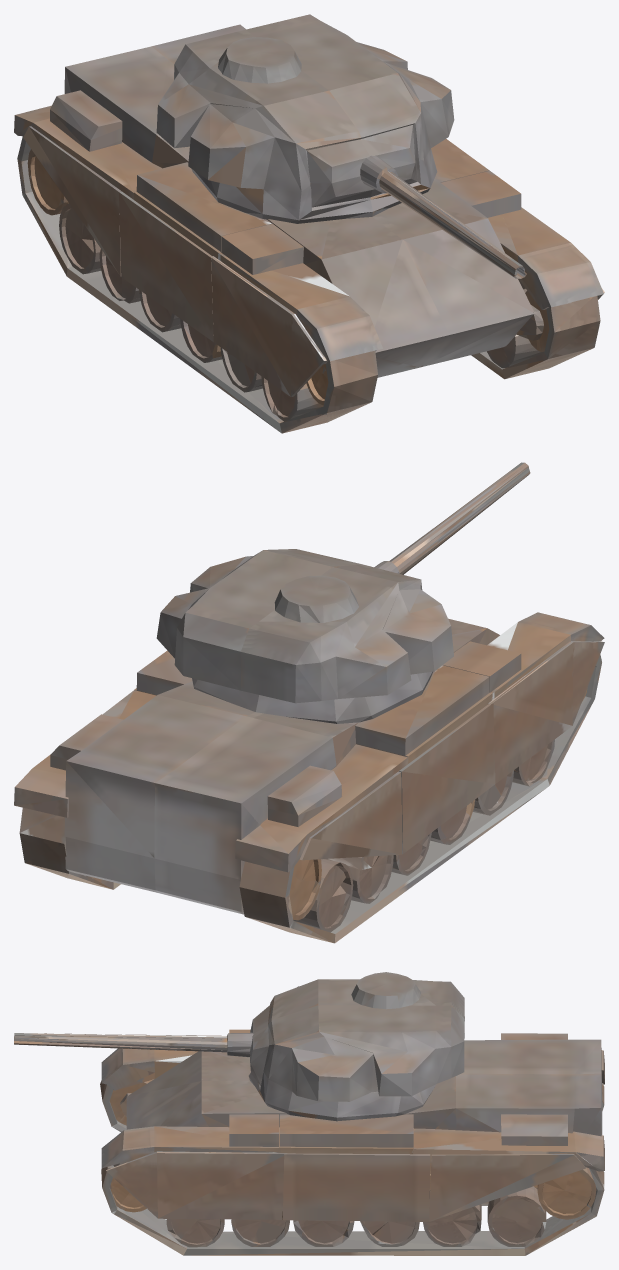
Rendered from golan73_israeli_ghost_0.glb.
3 renders of one model, top to bottom at view 1: azimuth 30°, elevation 25°; view 2: azimuth 150°, elevation 25°; view 3: azimuth 270°, elevation 25°, orthographic. The views are drawn at different scales.
Visible parts, largest first — view 1: geometry_0; view 2: geometry_0; view 3: geometry_0.
Boxes of the visible parts, left/top/right/bottom form: geometry_0: left=14, top=14, right=604, bottom=433; geometry_0: left=14, top=462, right=604, bottom=943; geometry_0: left=14, top=972, right=604, bottom=1255.
Size of the model in its own units: 0.6071 by 0.54 by 1.38.
1 material, 1 textured.
